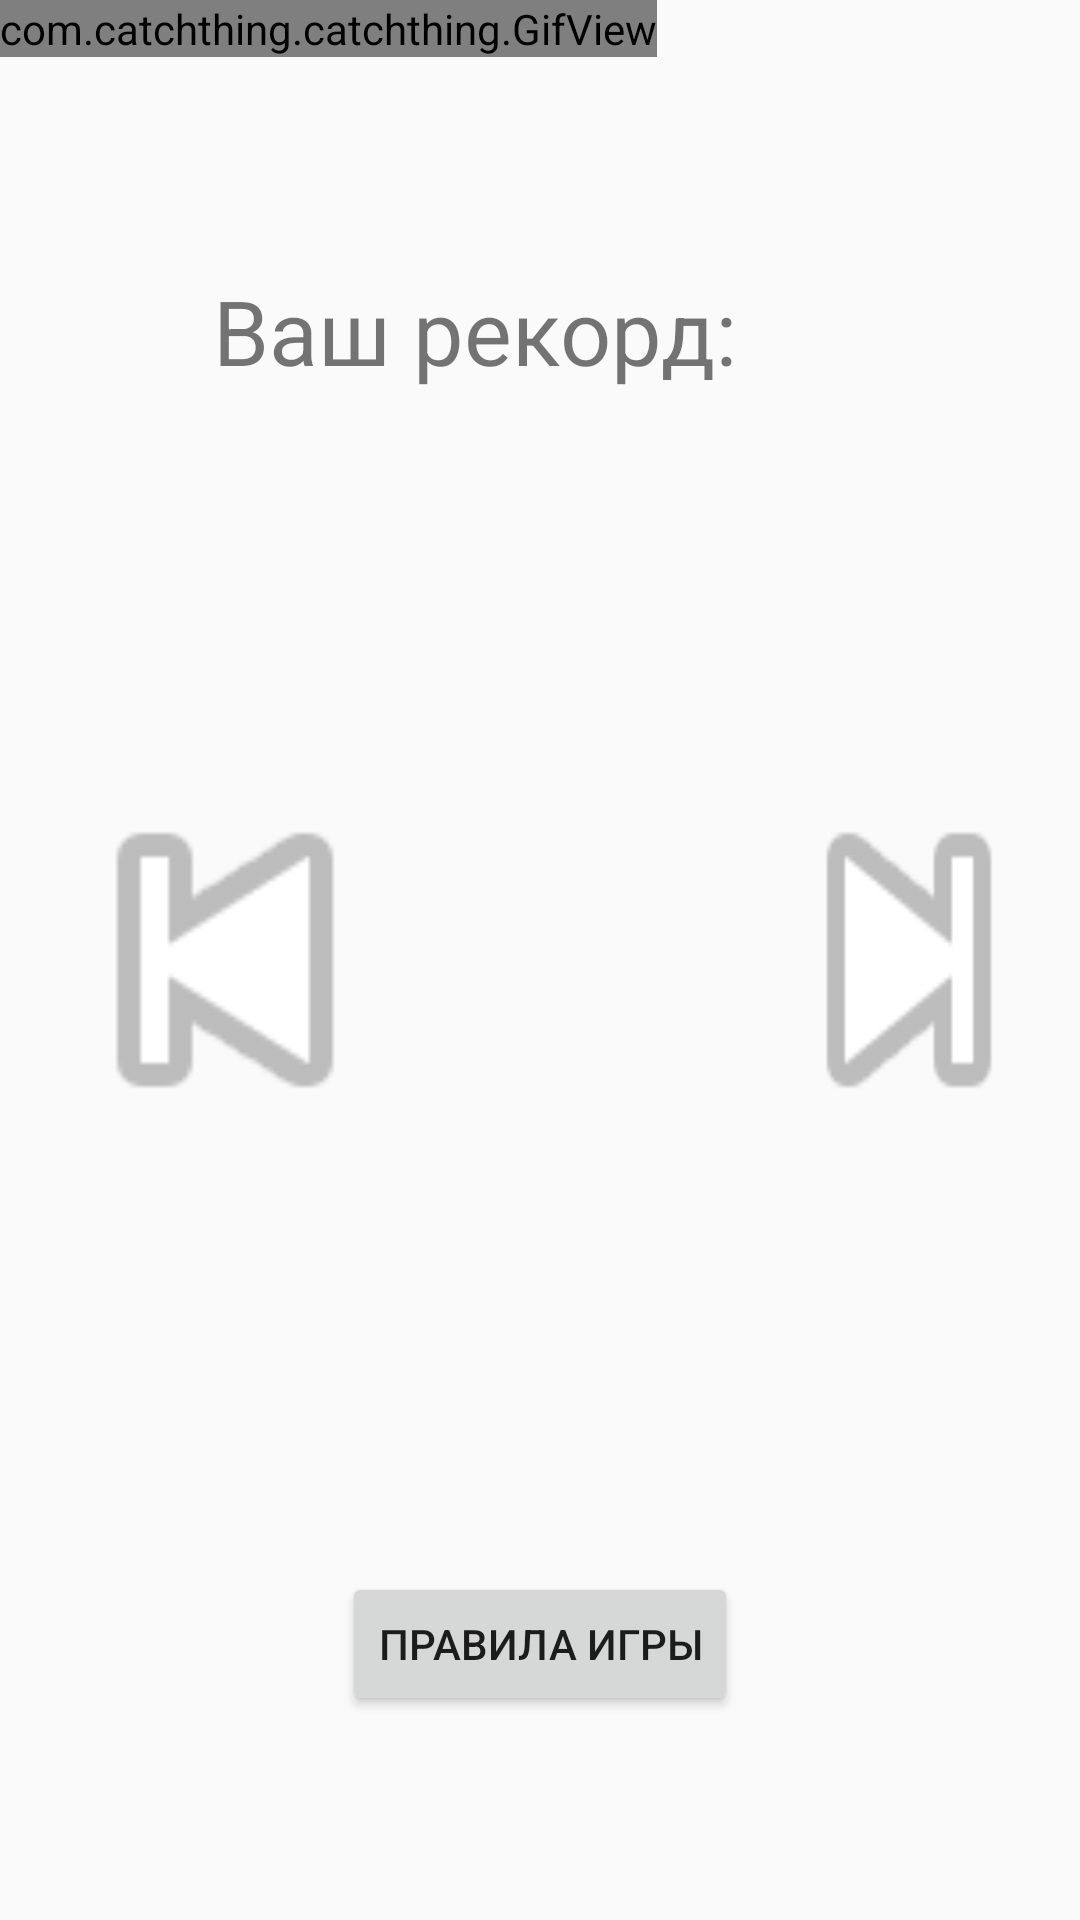

Where icons sit on this 1080*1920 app screen, as (left=x1, top=y1, right=x2, bottom=y2):
next: (left=827, top=833, right=991, bottom=1087)
previous: (left=117, top=833, right=333, bottom=1087)
